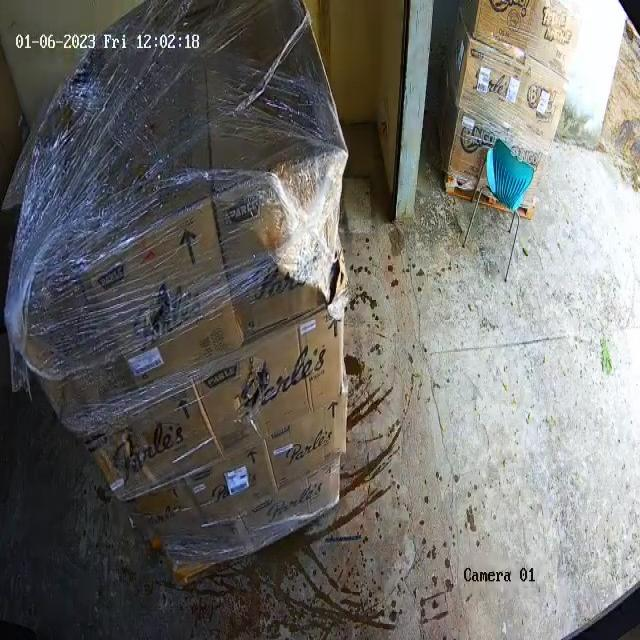leakage: (300, 248, 355, 327)
squeeze: (253, 145, 348, 242)
